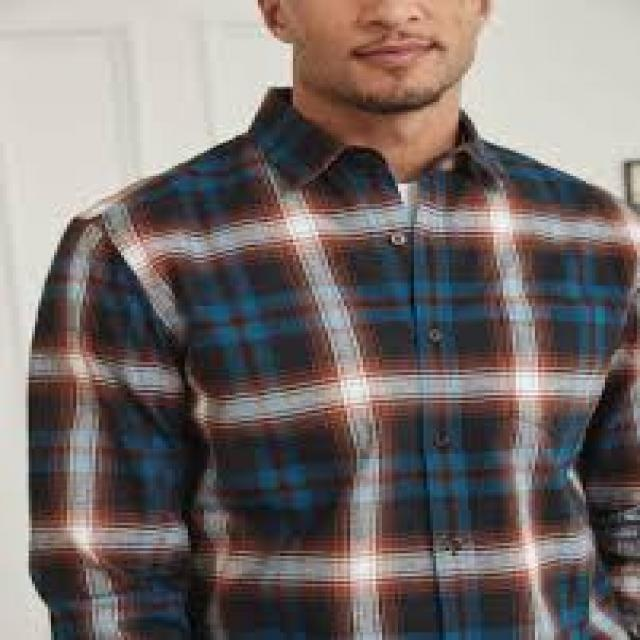plaid: (35, 79, 640, 635)
